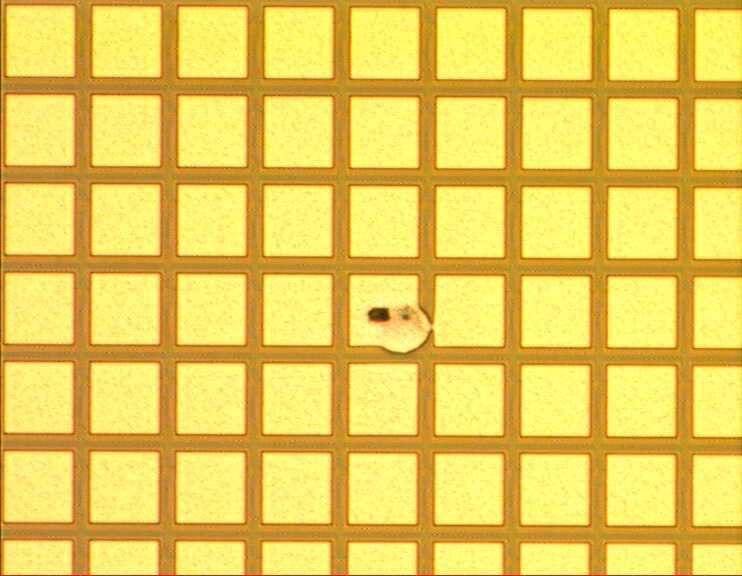BLOCK ETCH: (364, 296, 435, 358)
